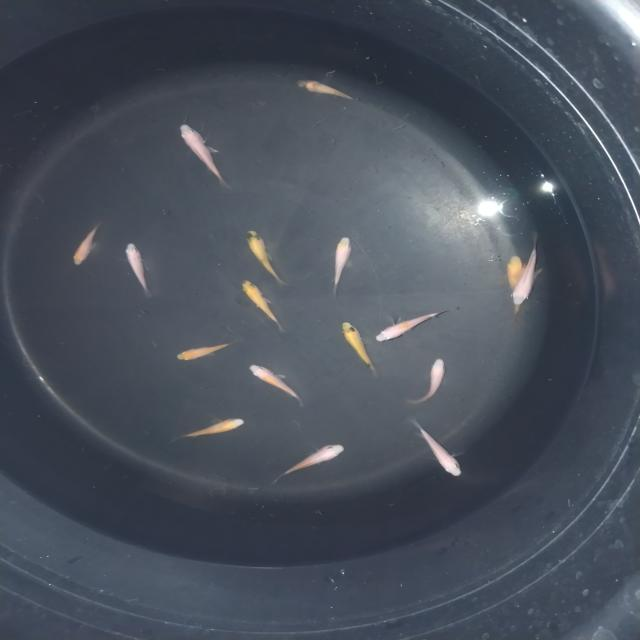nila: (172, 120, 232, 190), (270, 440, 348, 486), (372, 306, 460, 345), (410, 420, 465, 478), (241, 226, 289, 290), (234, 278, 290, 330), (509, 232, 546, 308), (246, 361, 306, 407), (339, 318, 382, 382), (499, 253, 528, 327), (293, 76, 367, 105), (176, 414, 247, 442), (409, 356, 447, 406), (170, 338, 240, 365), (68, 220, 107, 268), (124, 238, 154, 300), (328, 233, 354, 296)
